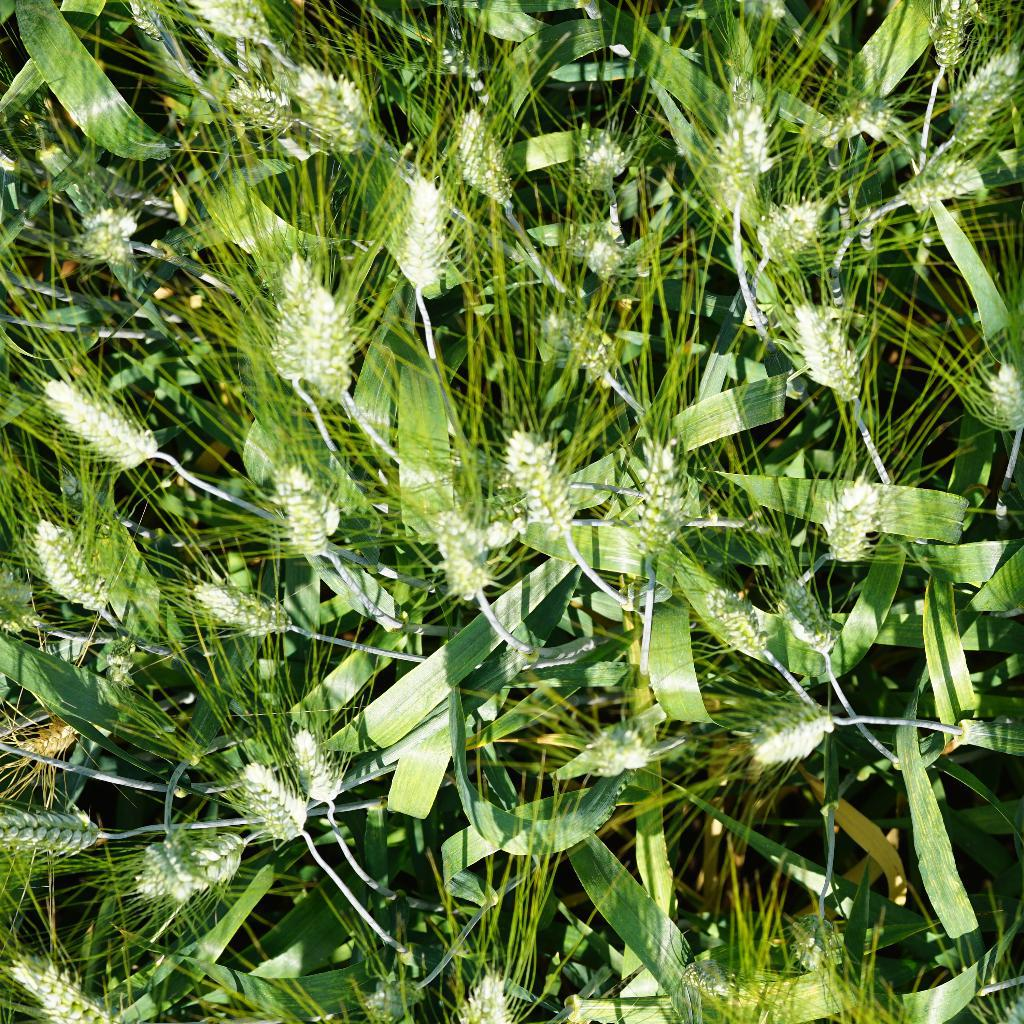0-0: (26, 363, 186, 473), (264, 245, 366, 405), (367, 142, 462, 303), (18, 512, 142, 620), (0, 943, 161, 1024), (130, 825, 273, 907), (230, 754, 326, 863), (258, 453, 344, 570), (804, 474, 893, 580), (178, 571, 305, 645), (791, 294, 877, 402), (501, 430, 585, 538), (623, 430, 697, 552), (699, 88, 776, 204), (265, 240, 321, 397), (444, 103, 520, 216), (750, 688, 854, 769), (425, 501, 501, 608), (291, 58, 377, 152), (544, 302, 628, 393), (945, 48, 1017, 152), (444, 437, 538, 516), (776, 575, 851, 673), (0, 797, 116, 860), (692, 579, 781, 660), (13, 704, 107, 773), (286, 722, 355, 815), (886, 153, 989, 212), (152, 0, 277, 47), (67, 197, 145, 272), (828, 81, 908, 147), (561, 127, 636, 195), (419, 21, 498, 85), (220, 77, 299, 137), (587, 717, 662, 780), (787, 902, 846, 981), (752, 195, 817, 266), (920, 0, 978, 79), (441, 970, 522, 1024), (17, 100, 79, 162), (361, 969, 430, 1024), (578, 223, 636, 288), (986, 347, 1024, 445), (677, 955, 742, 1002), (120, 0, 176, 46), (163, 830, 204, 882), (103, 643, 141, 691)
